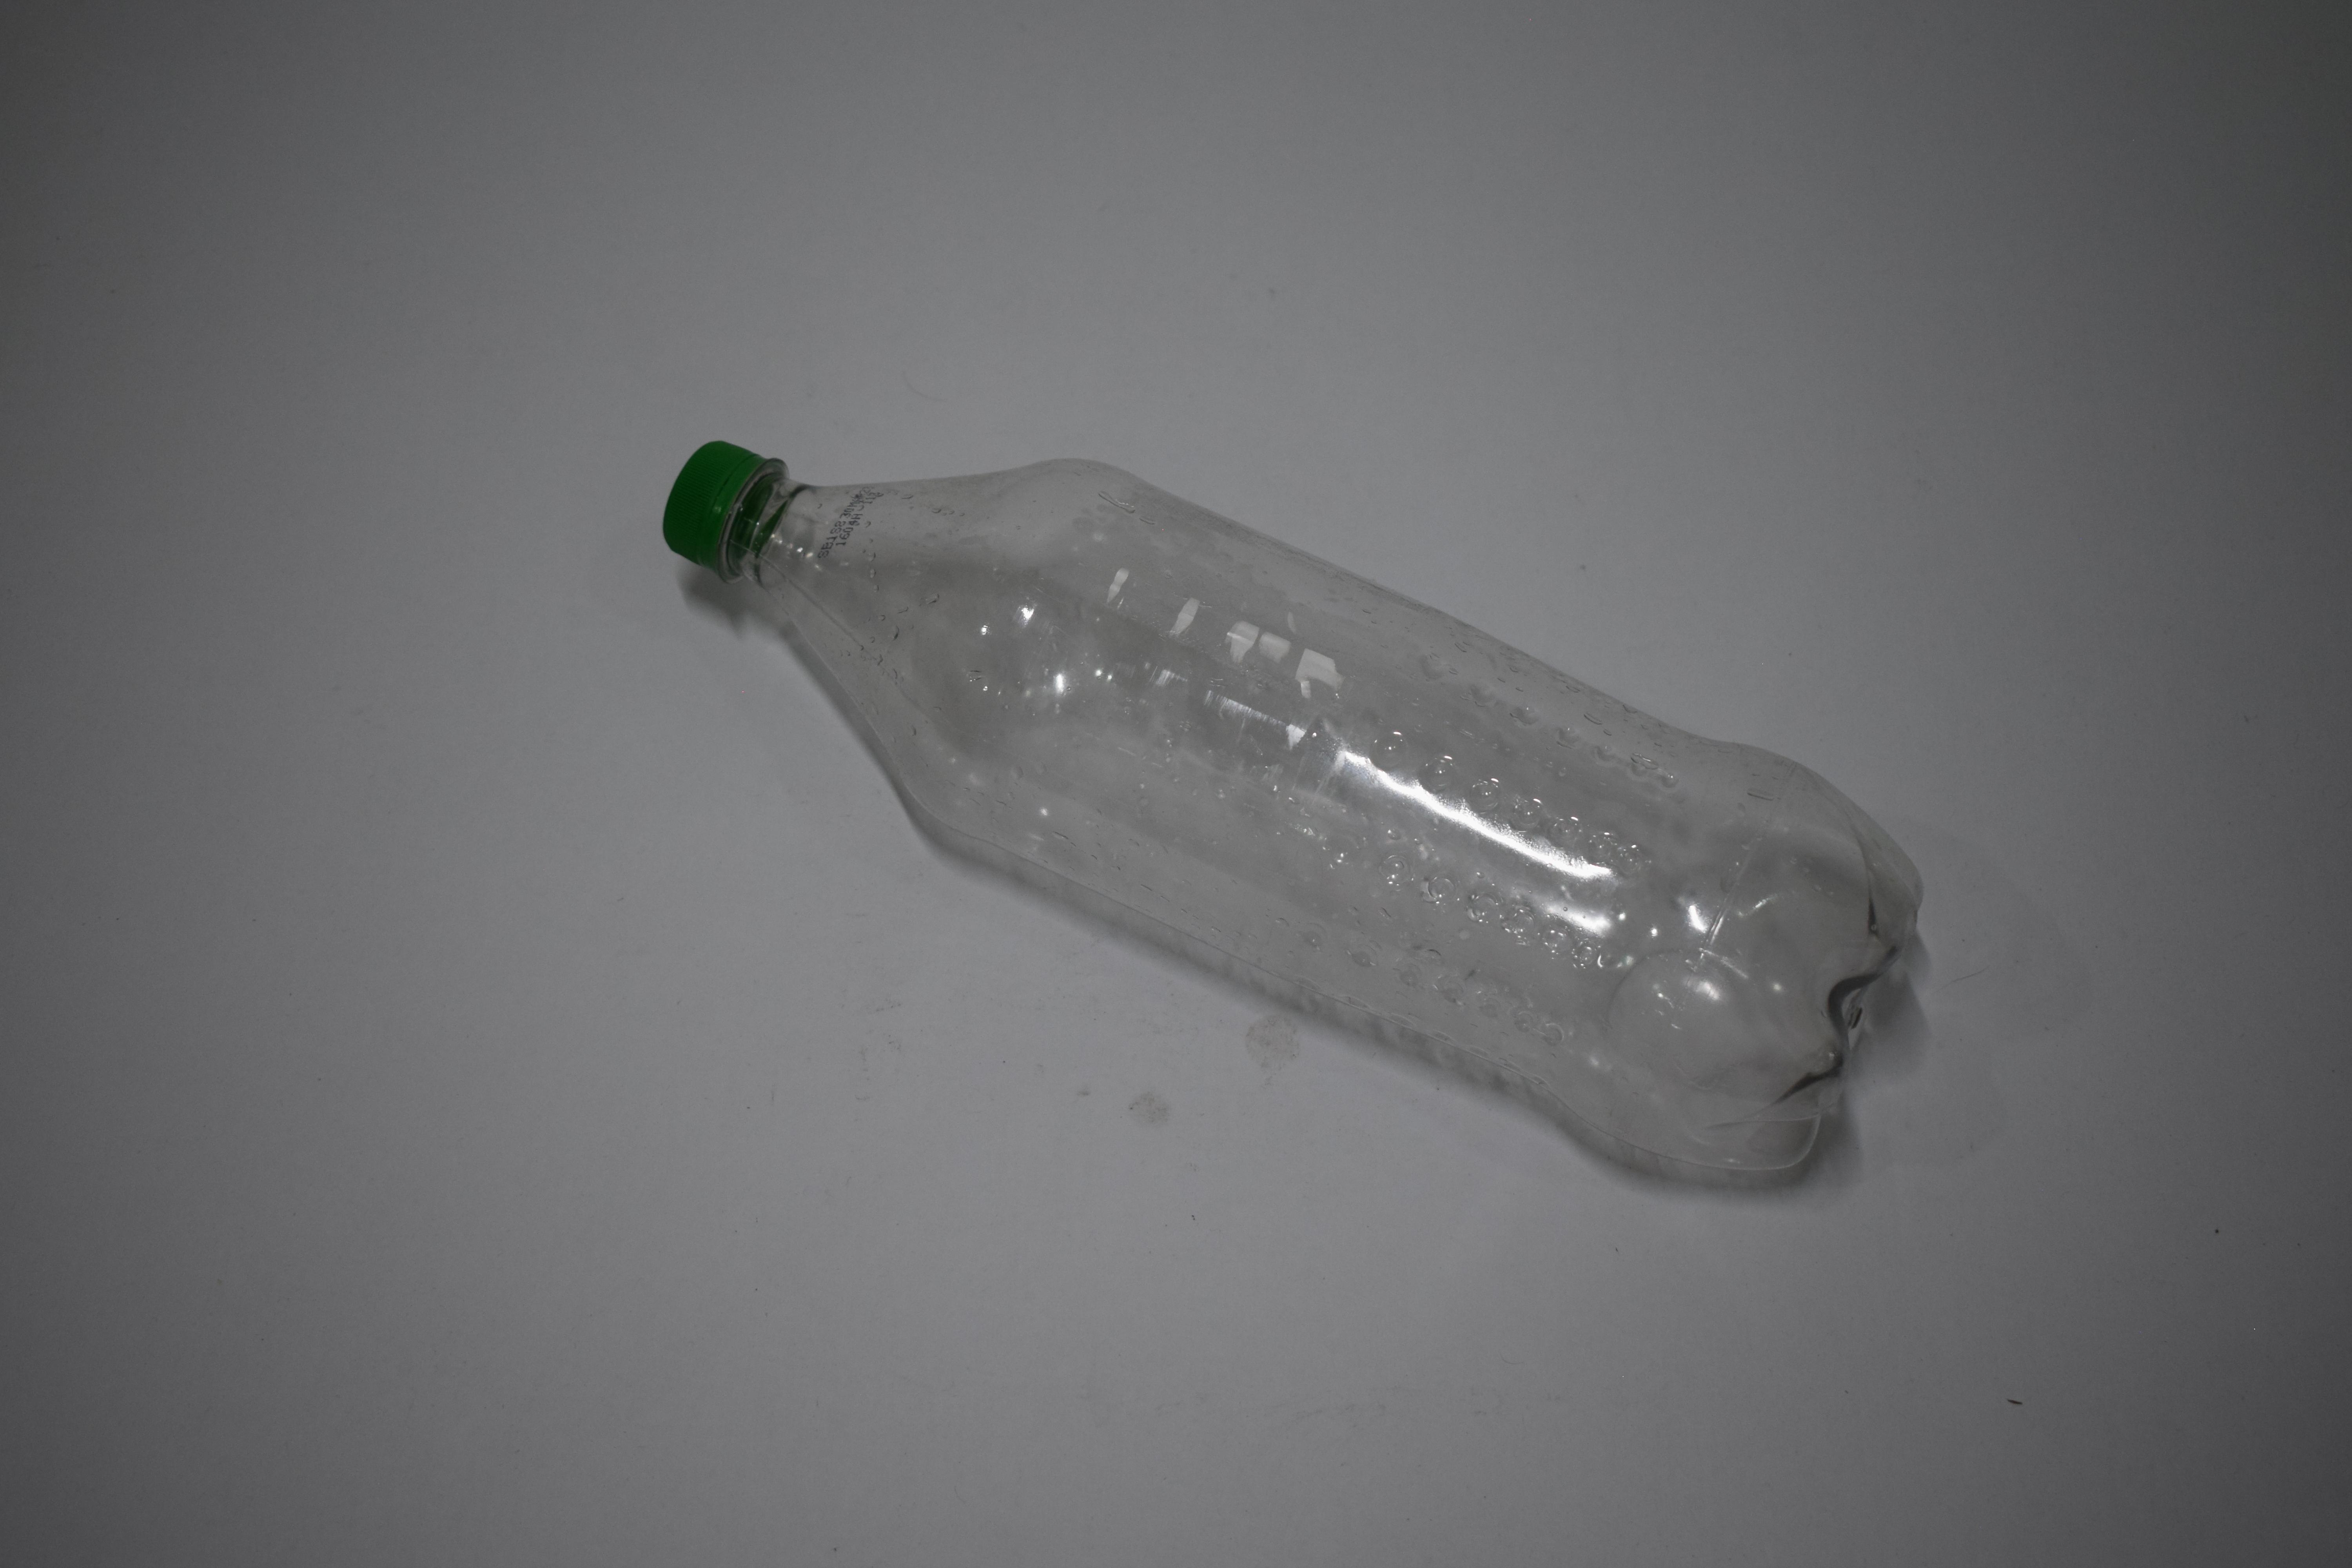bottle: (73, 0, 147, 415)
